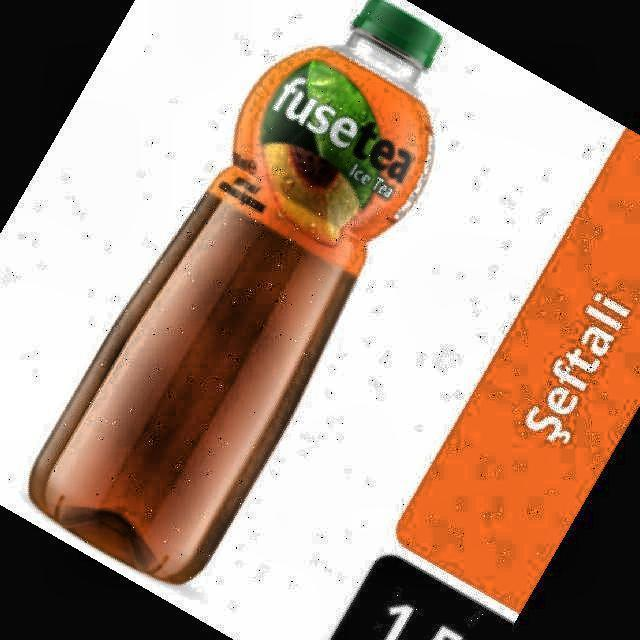plastic: (30, 0, 441, 582)
